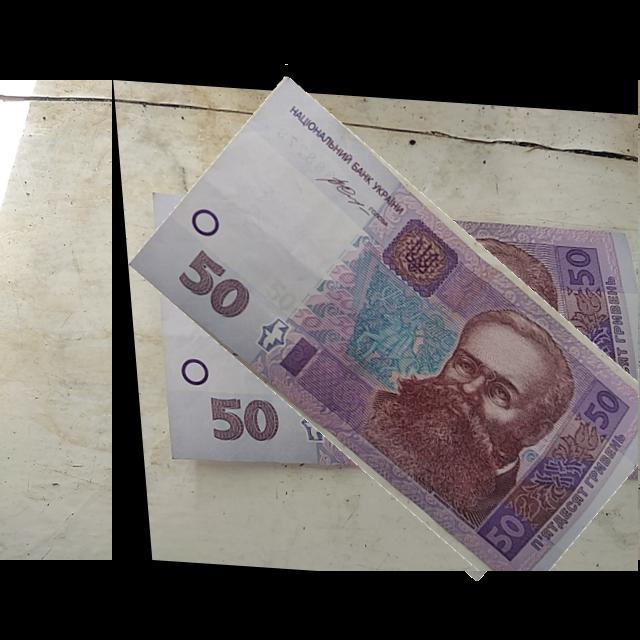50uah: (125, 74, 639, 572)
